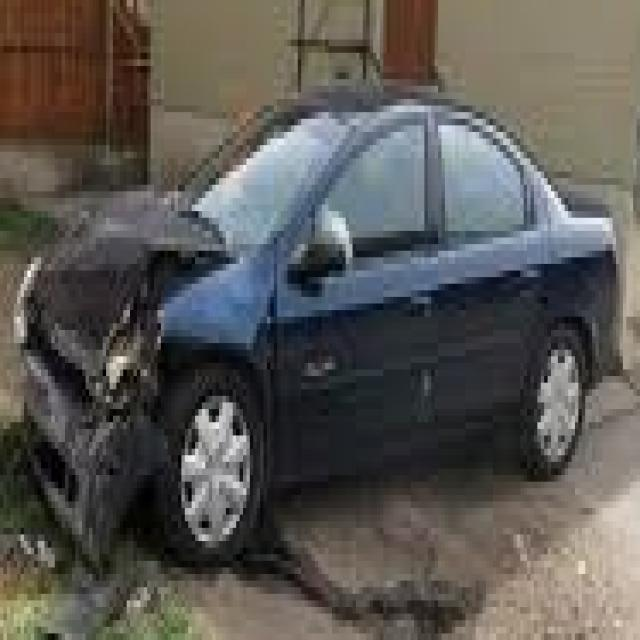severe: (10, 221, 226, 549)
